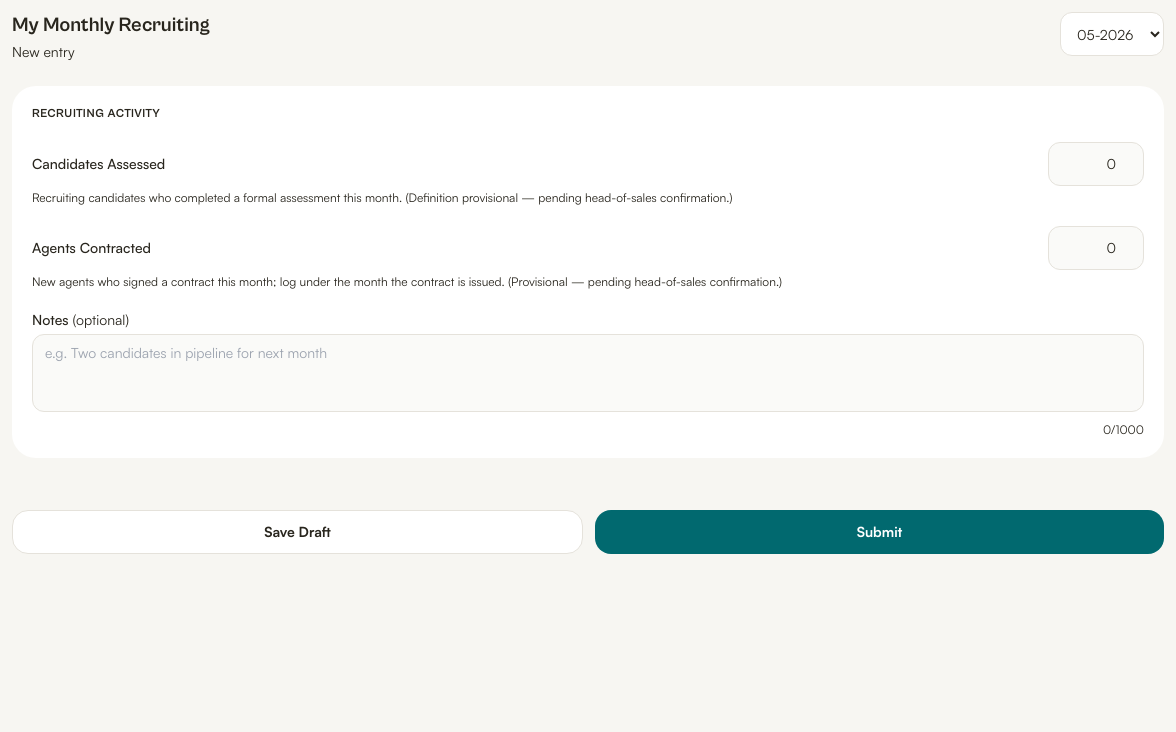
Test case: Save Draft › shows save error on failure
The image size is (1176, 732).
Click the button "Save Draft".
click(298, 532)  # box [12,510,583,554]
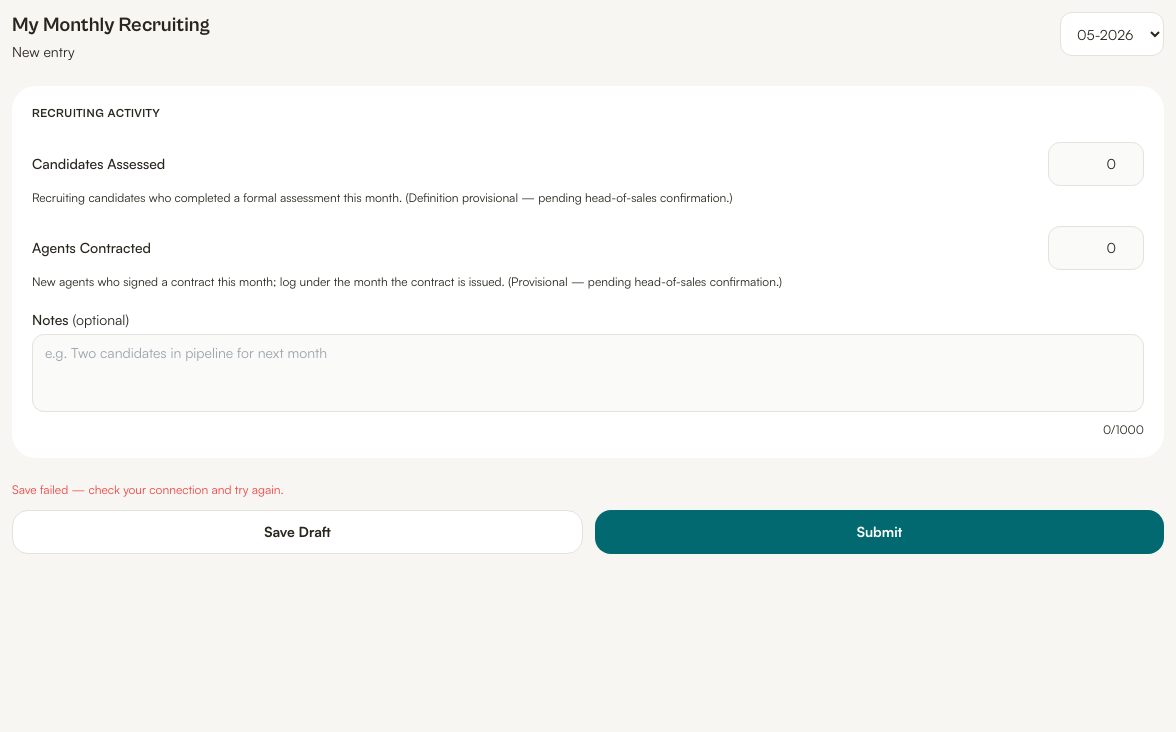
Check: the text "Save failed — check your connection and try again." is shown, box [12,482,284,497]
